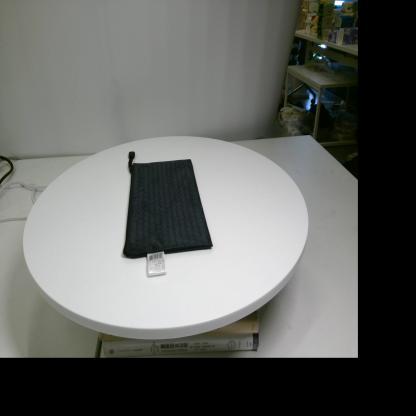Stationery: (123, 151, 213, 277)
